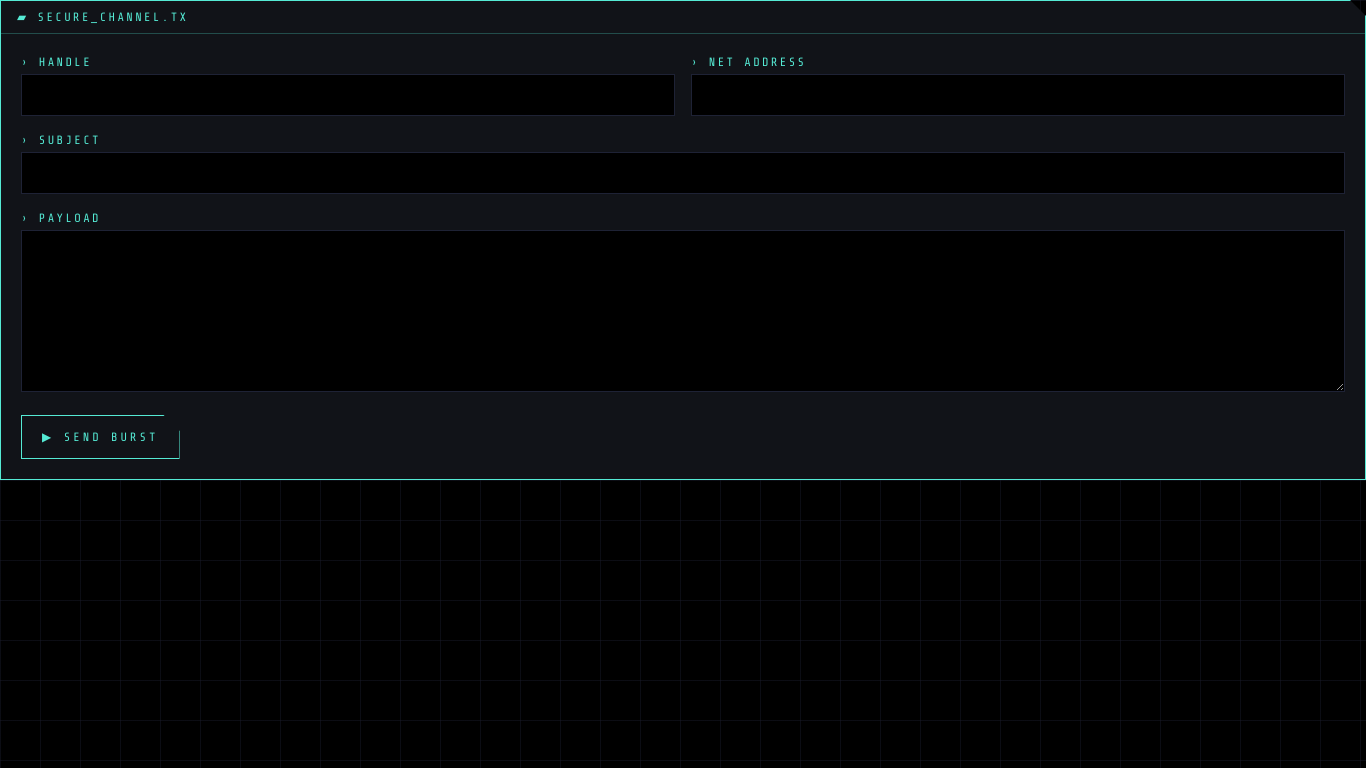
Test: ContactForm › successful submission shows success message
The image size is (1366, 768).
Type "Alice" into the field labelled "› Handle" at (348, 95), box [21, 74, 675, 116]
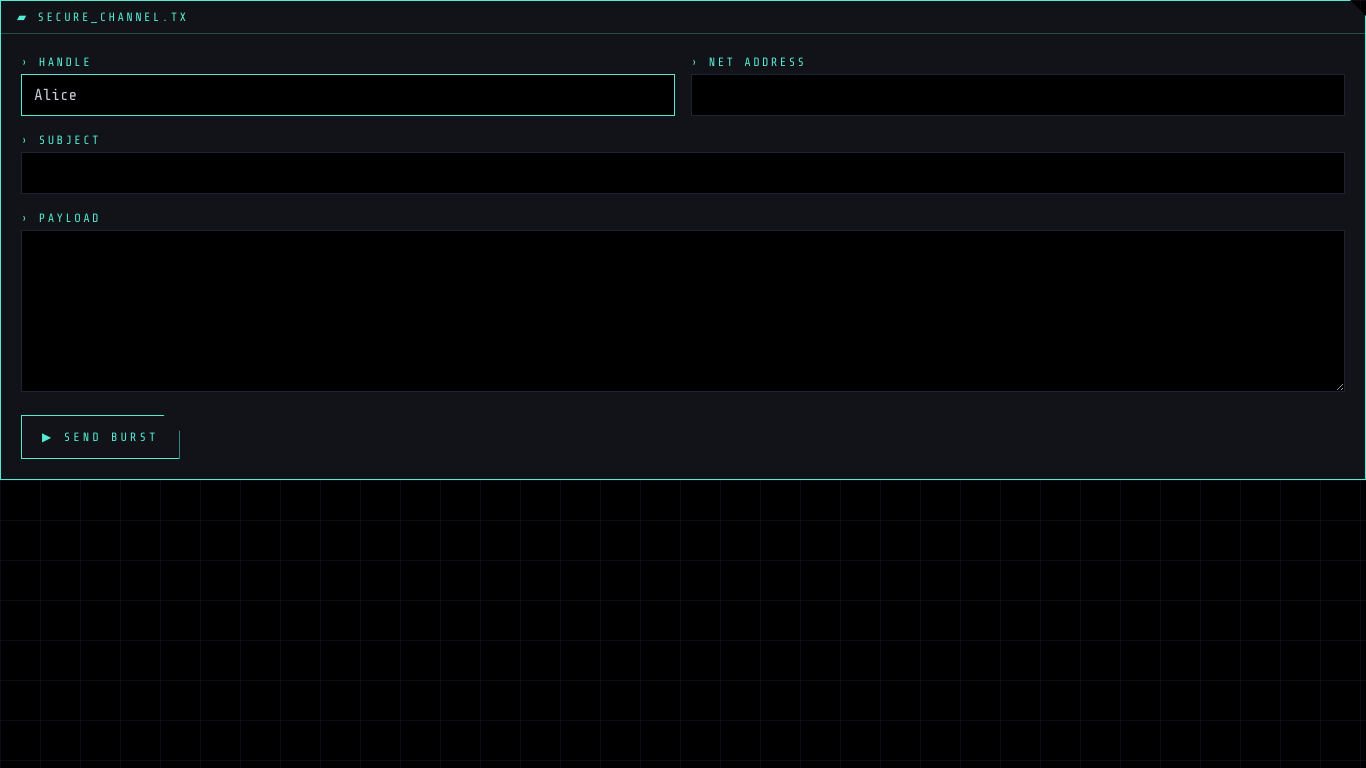
Type "alice@example.com" into the field labelled "› Net Address" at (1018, 95), box [691, 74, 1345, 116]
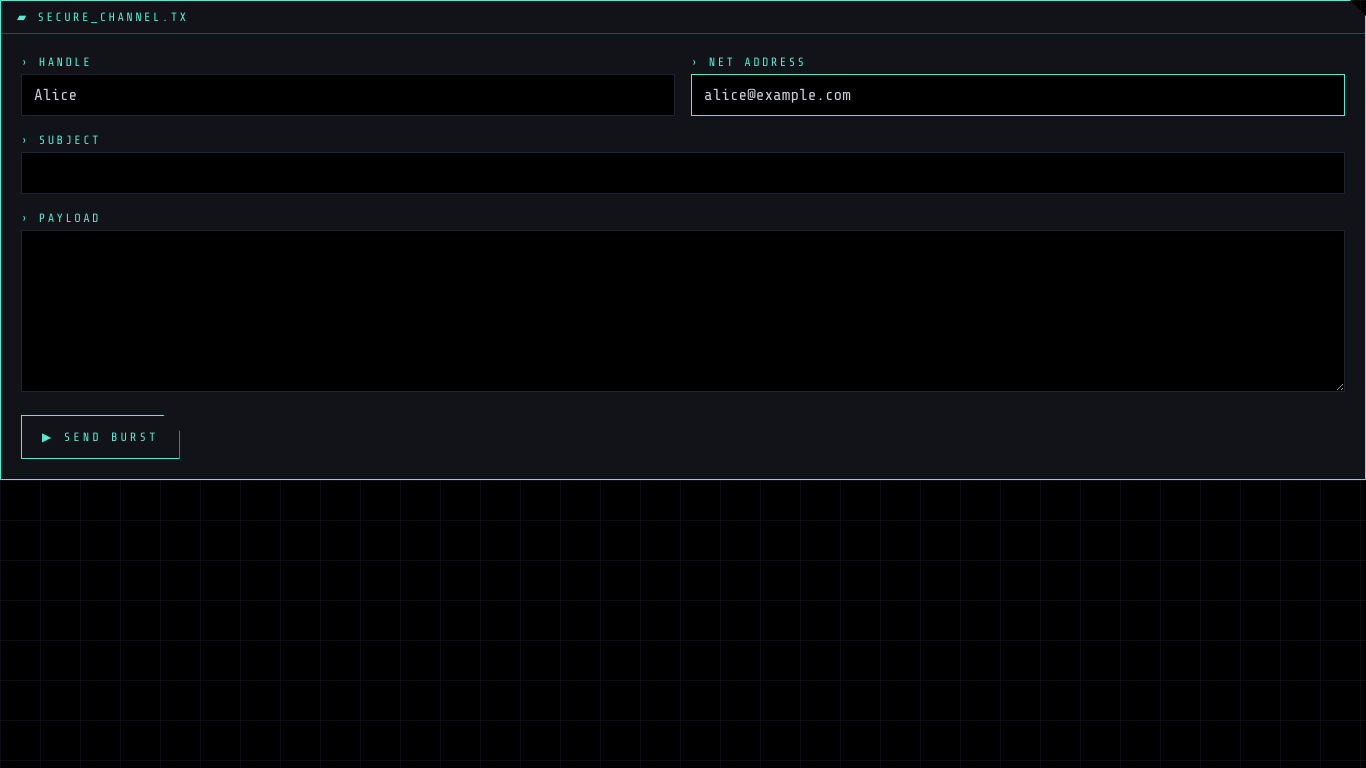
Type "Hello" into the field labelled "› Subject" at (683, 173), box [21, 152, 1345, 194]
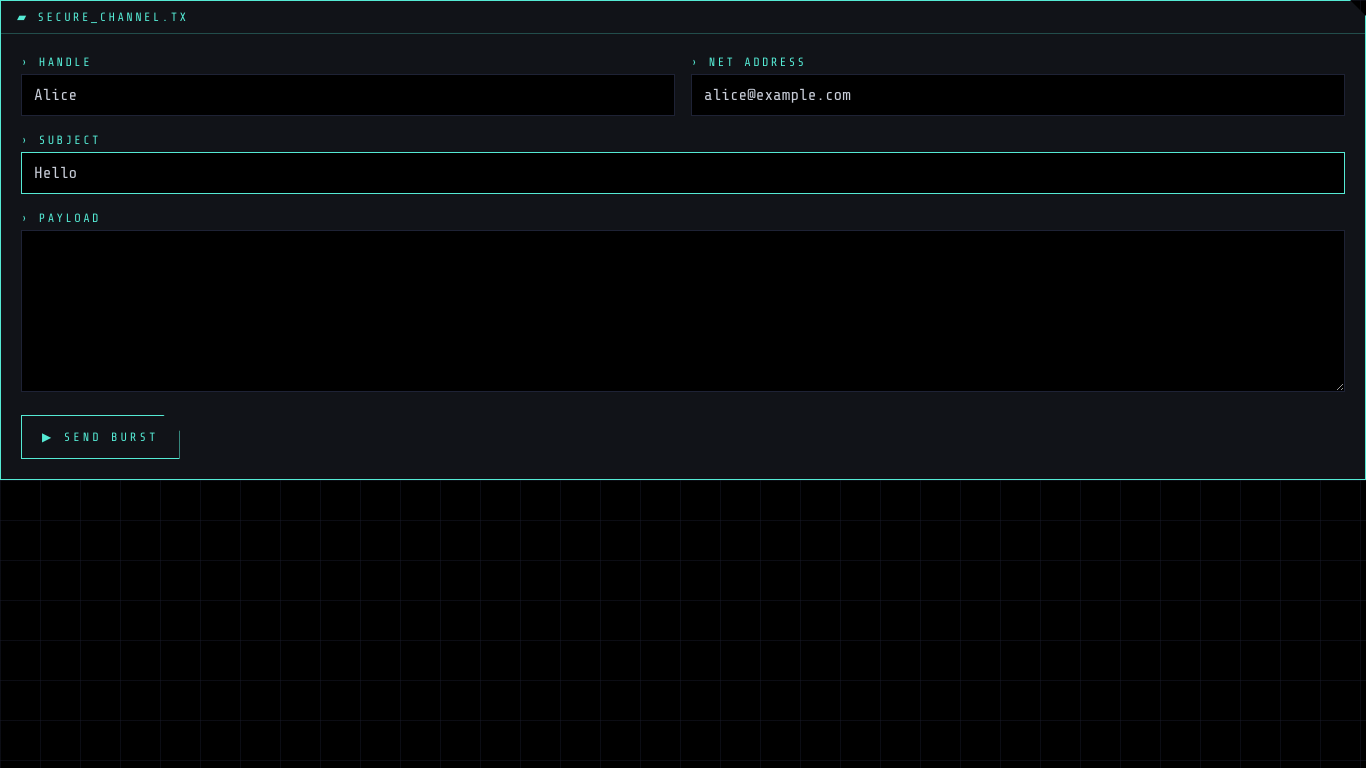
Type "World message body here" into the text box labelled "› Payload" at (683, 311), box [21, 230, 1345, 392]
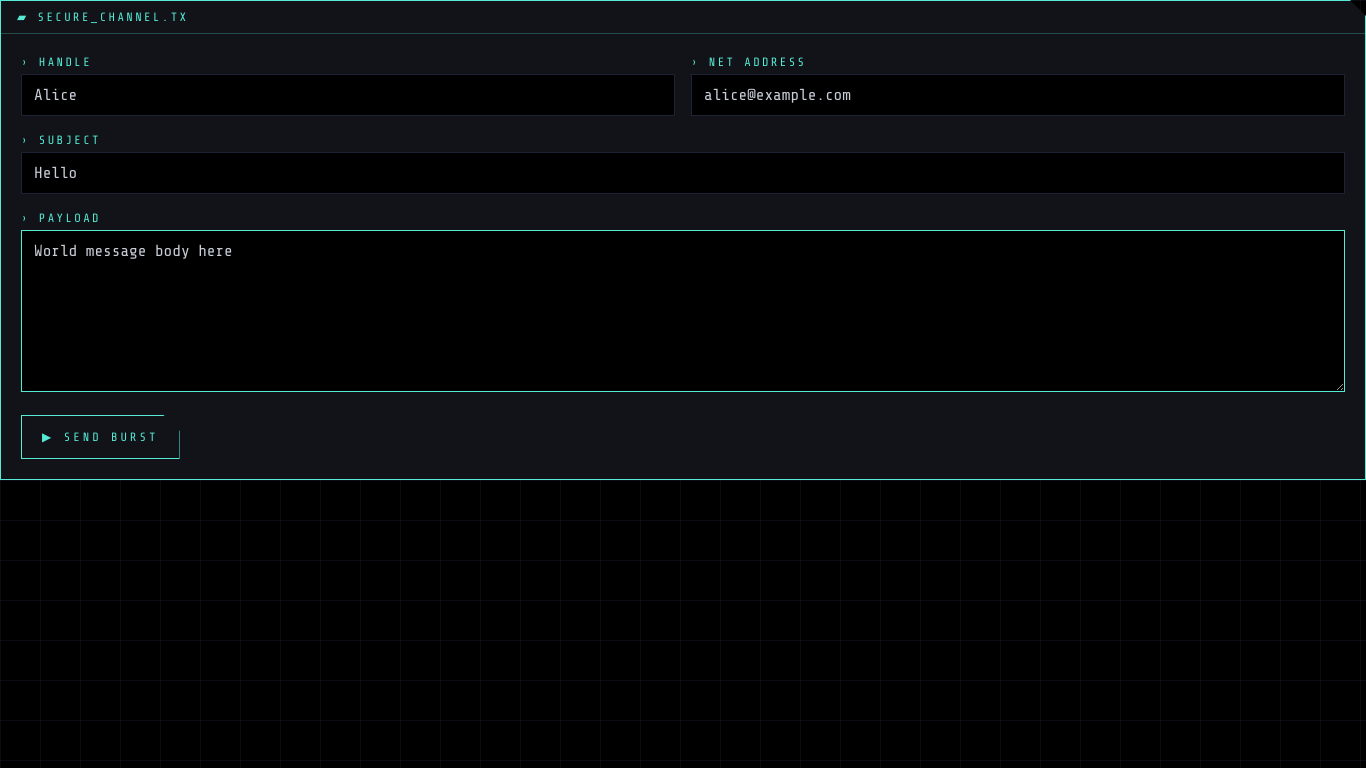
Click the button "▶ Send Burst" at (100, 437), box [21, 415, 180, 459]
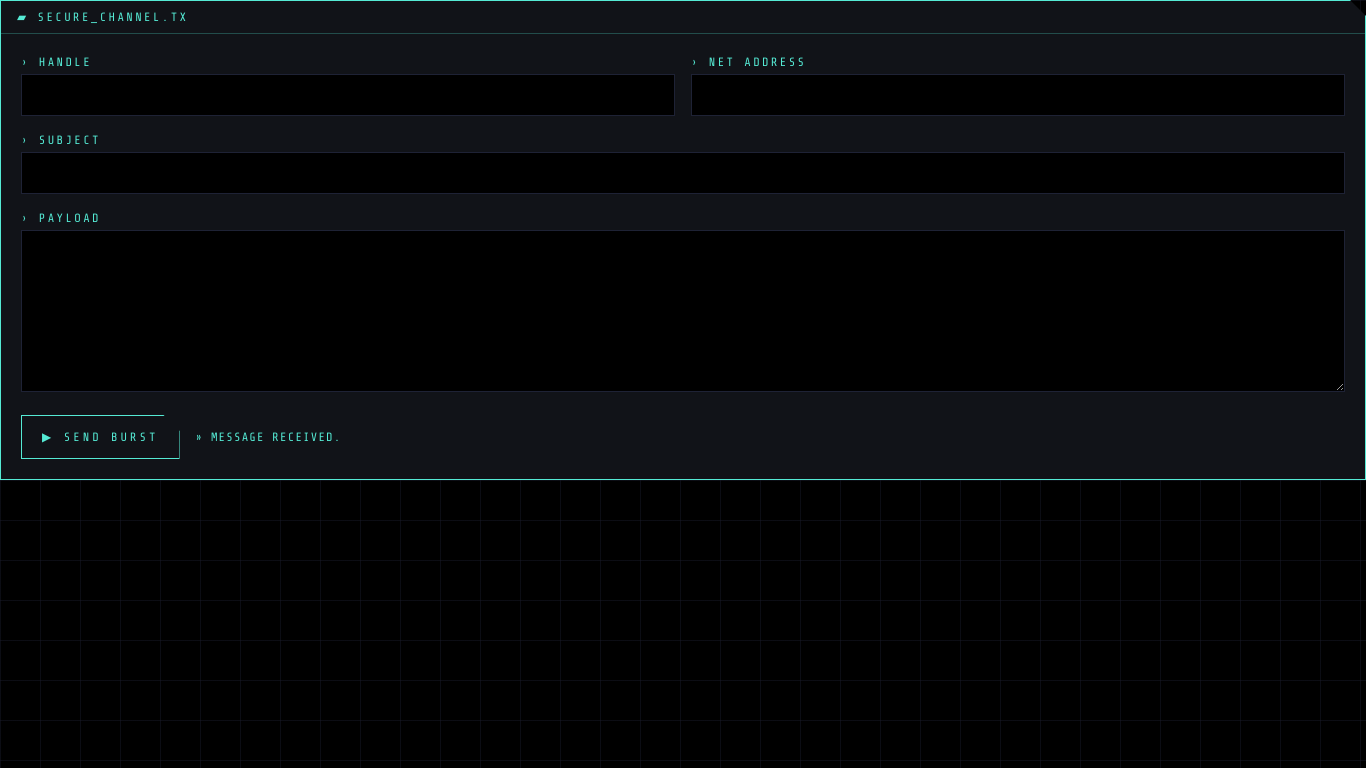
Check: the text "» Message received." is shown, box [196, 429, 341, 445]
